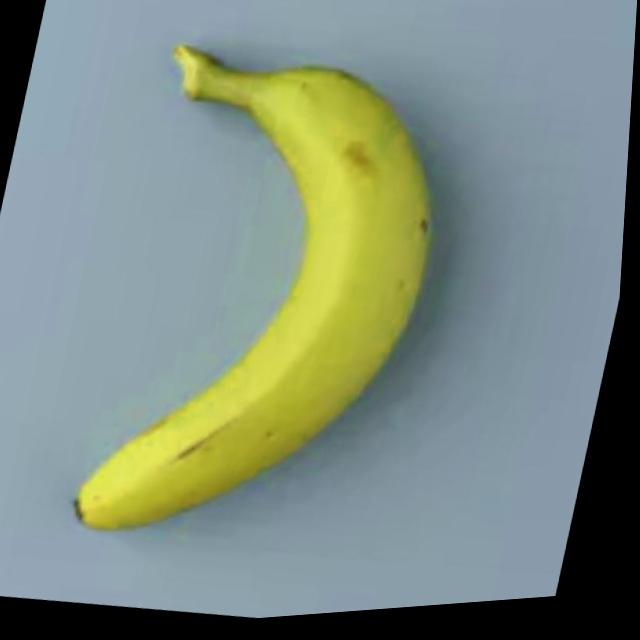Banana: (71, 26, 473, 577)
